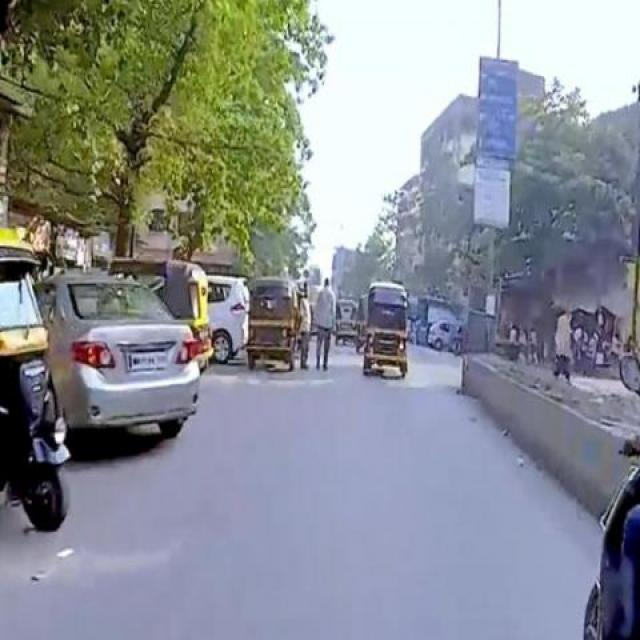Speed Bump: (200, 370, 363, 393), (379, 378, 462, 394)
